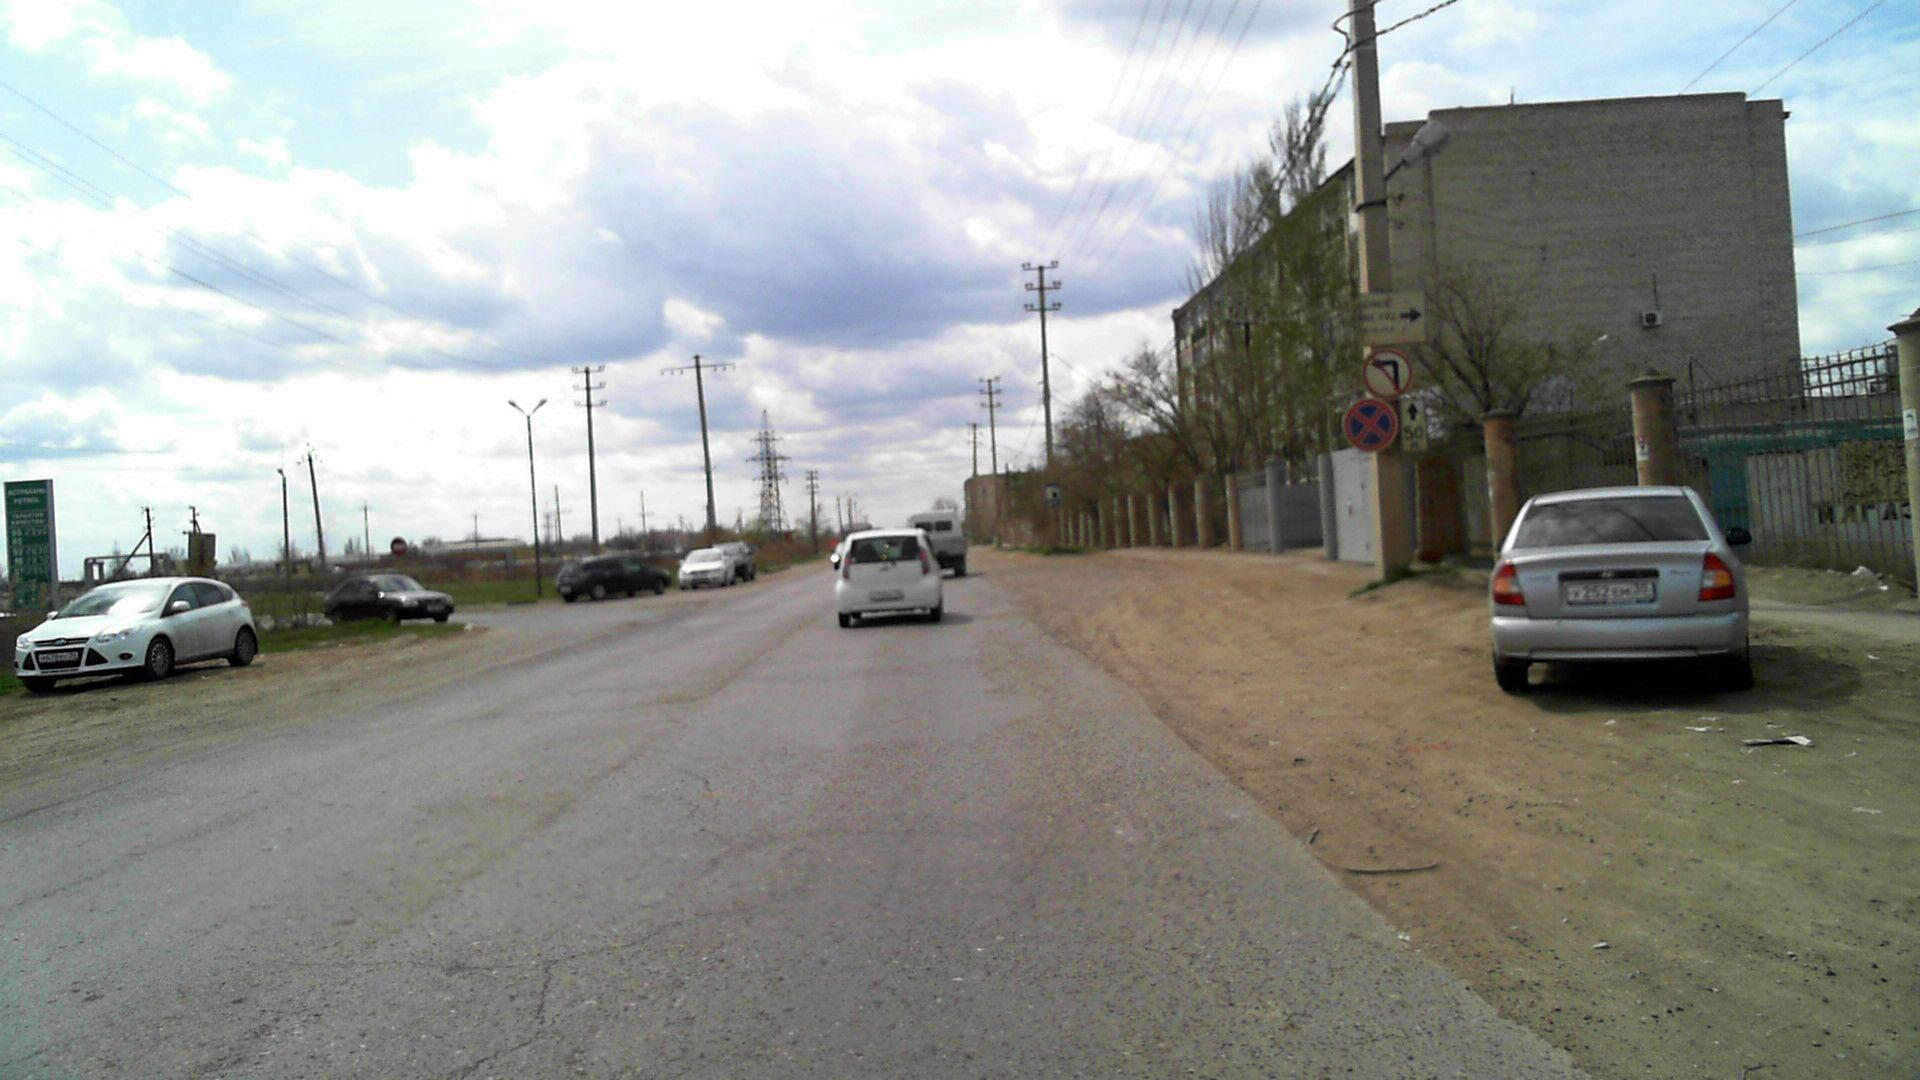3_1: (389, 537, 407, 555)
3_18_2: (1361, 347, 1415, 396)
3_27: (1341, 398, 1398, 450)
7_3: (1044, 483, 1062, 509)
8_2_2: (1399, 397, 1425, 450)
